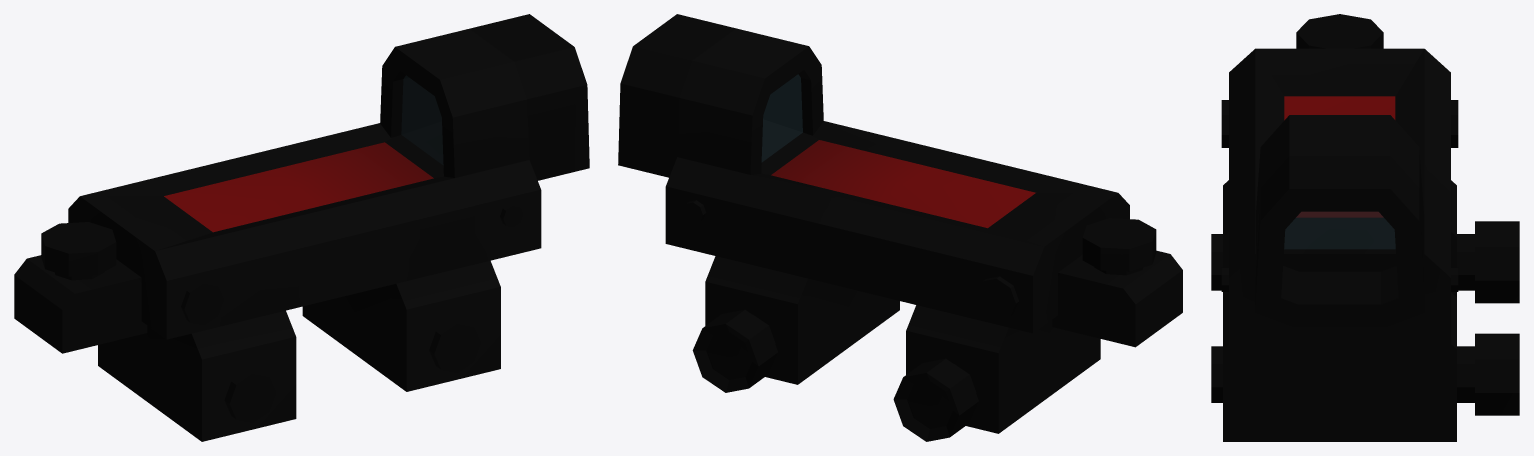
File: k-att-reddot-east.glb
3 views of the same model, side by side, from view 1: azimuth 30°, elevation 25°; view 2: azimuth 150°, elevation 25°; view 3: azimuth 270°, elevation 25° (orthographic). The views are drawn at different scales.
Parts seen in each view (by area): view 1: kit (×3), lens; view 2: kit (×3), lens; view 3: kit (×3), lens.
Boxes of the visible parts, box(x1,y1,x2,y2) form: kit (×3): box(14, 14, 589, 441); lens: box(401, 75, 443, 165); kit (×3): box(618, 14, 1182, 441); lens: box(761, 74, 802, 161); kit (×3): box(1211, 14, 1519, 441); lens: box(1284, 211, 1395, 249).
Size of the model in its own units: 0.0799 by 0.0409 by 0.0369.
